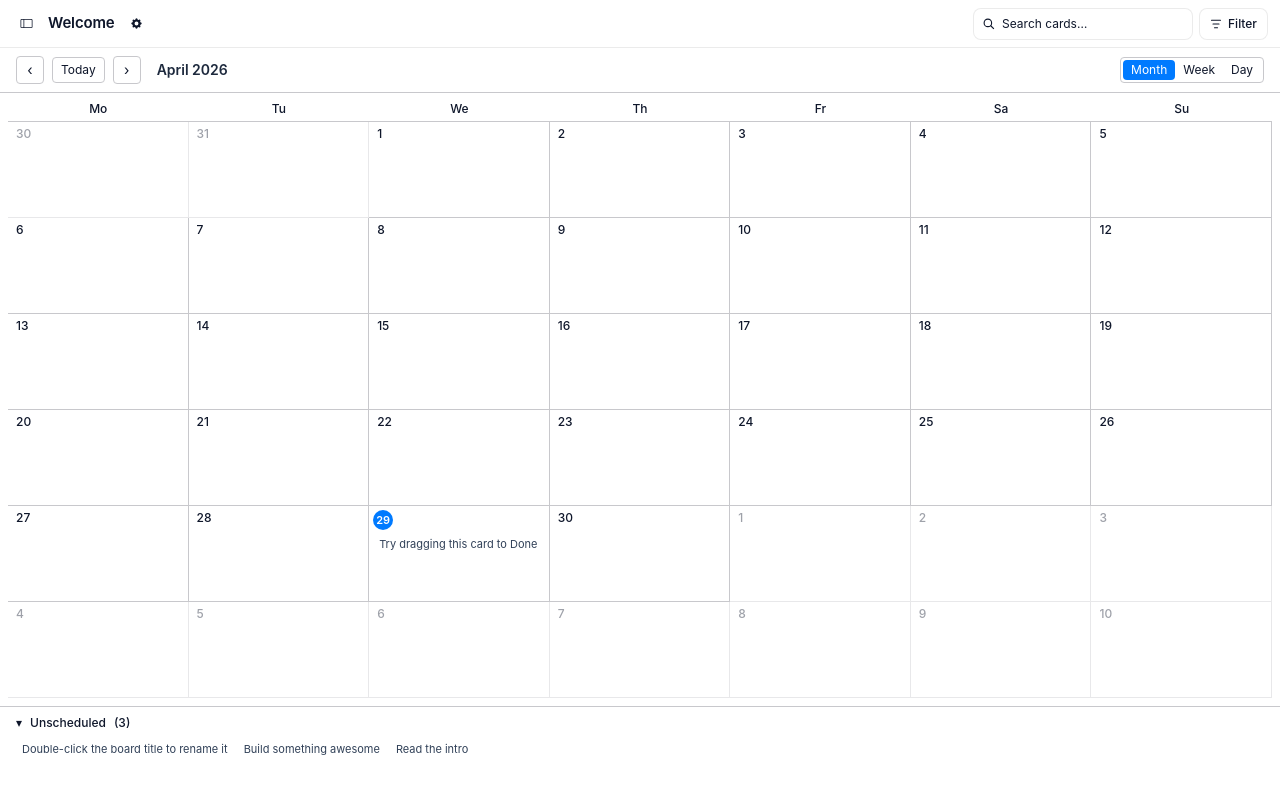
BoardCalendarView › canceling the new card modal does not create a card
Click the cell "29 Try dragging this card to Done" at x=459, y=554, box [369,506,550,602]
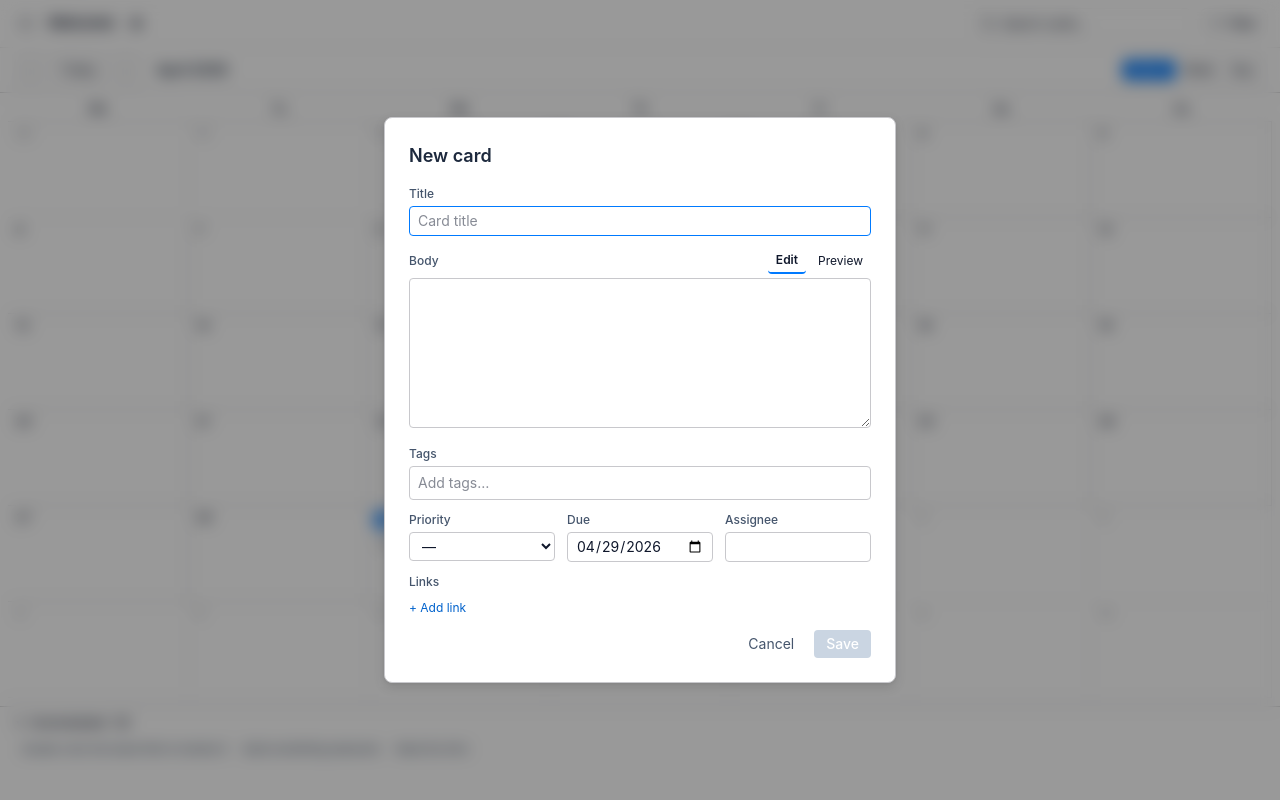
Expected: the heading "New card" is shown, [409,145,492,166]
Click the button "Cancel" at x=771, y=644, box [736,630,806,658]
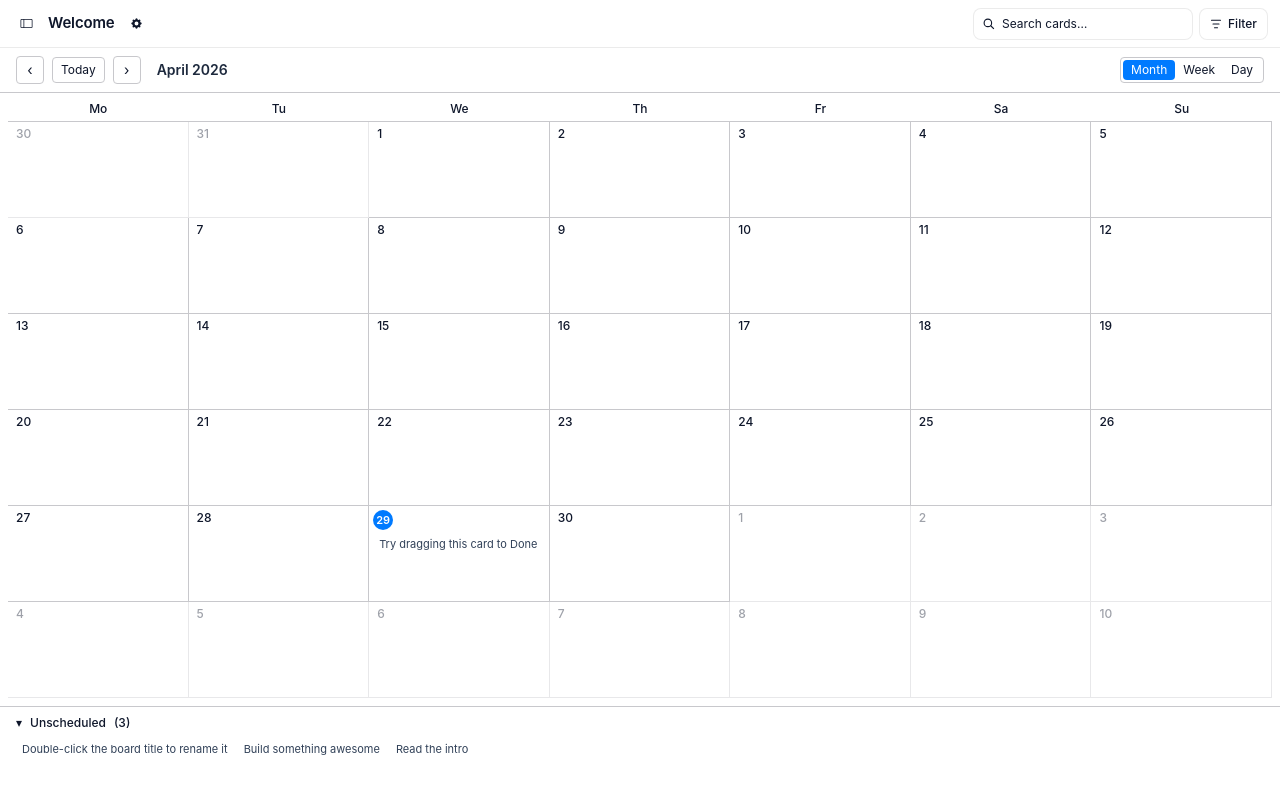
Expected: the dialog is gone
